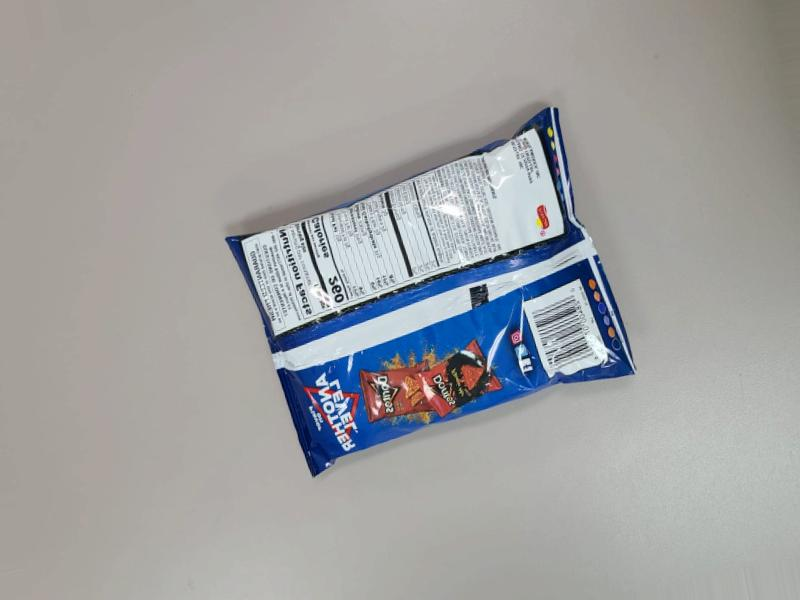doritos: (259, 101, 606, 472)
